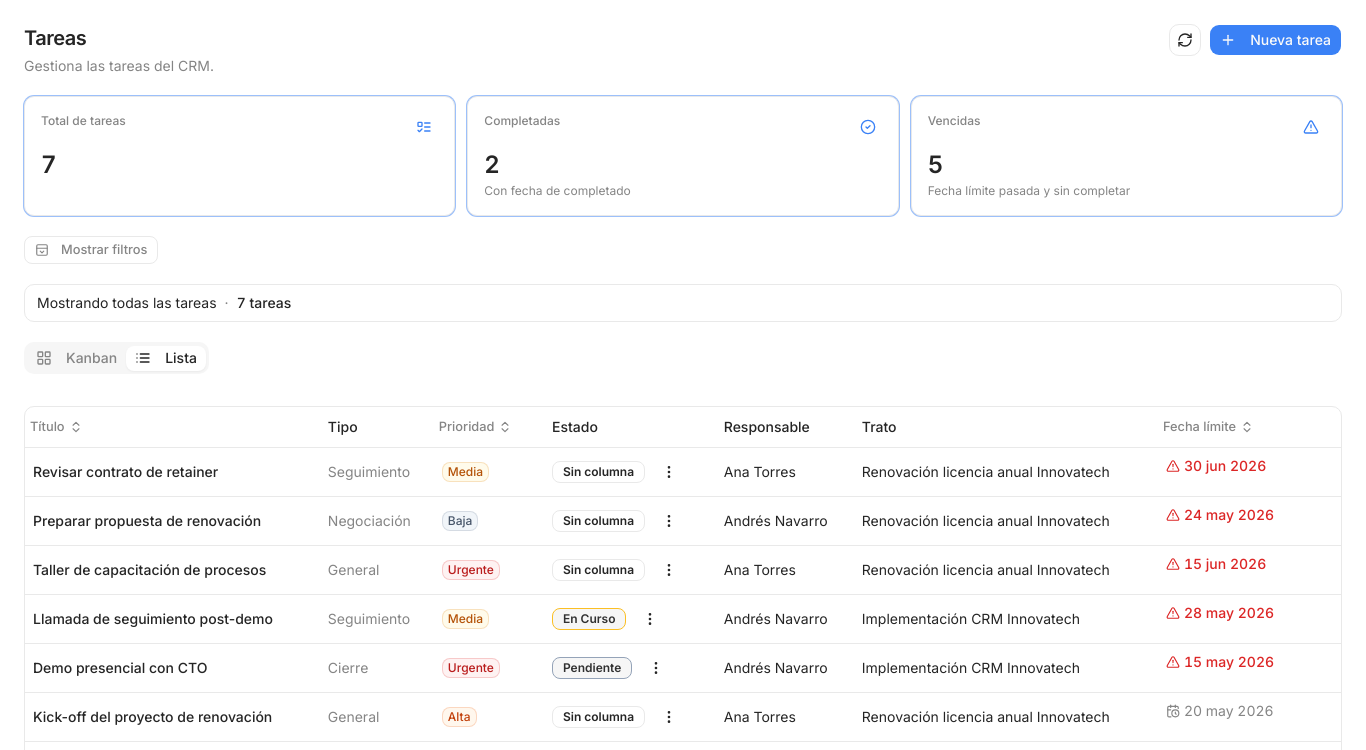
TareasListPage — presets y Kanban filtrado › storage corrupto de presets no rompe la página
The image size is (1366, 750).
Expected: the button "Demo presencial con CTO" is shown, 33,658 -> 207,678
Click the button "Mostrar filtros". click: (91, 250)
box: 24,236 -> 158,264
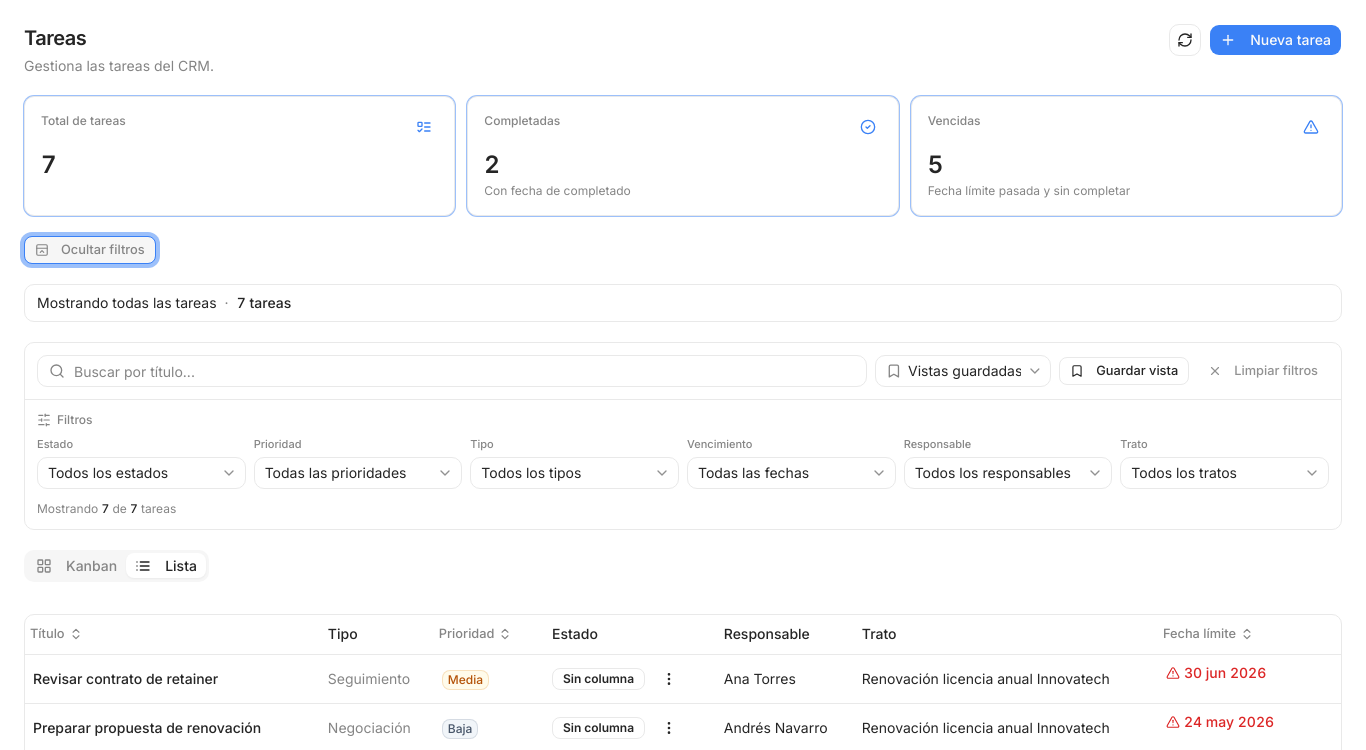
Expected: the button named "mostrar filtros" is expanded, 24,236 -> 156,264
Expected: the dropdown labelled "Vistas guardadas" is shown, 875,355 -> 1051,387
